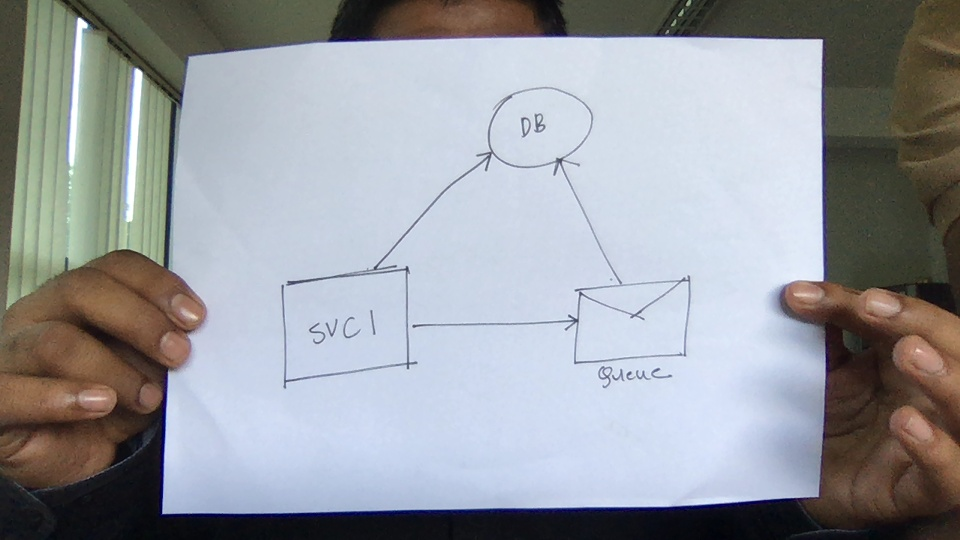db: (483, 83, 598, 176)
ec2: (275, 260, 420, 387)
sns: (570, 274, 696, 370)
